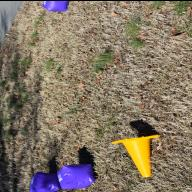cone: (112, 133, 160, 177)
cube: (56, 162, 96, 188), (29, 170, 61, 192), (42, 0, 70, 11)
